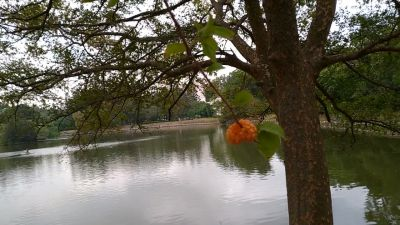eggs: (225, 118, 260, 147)
